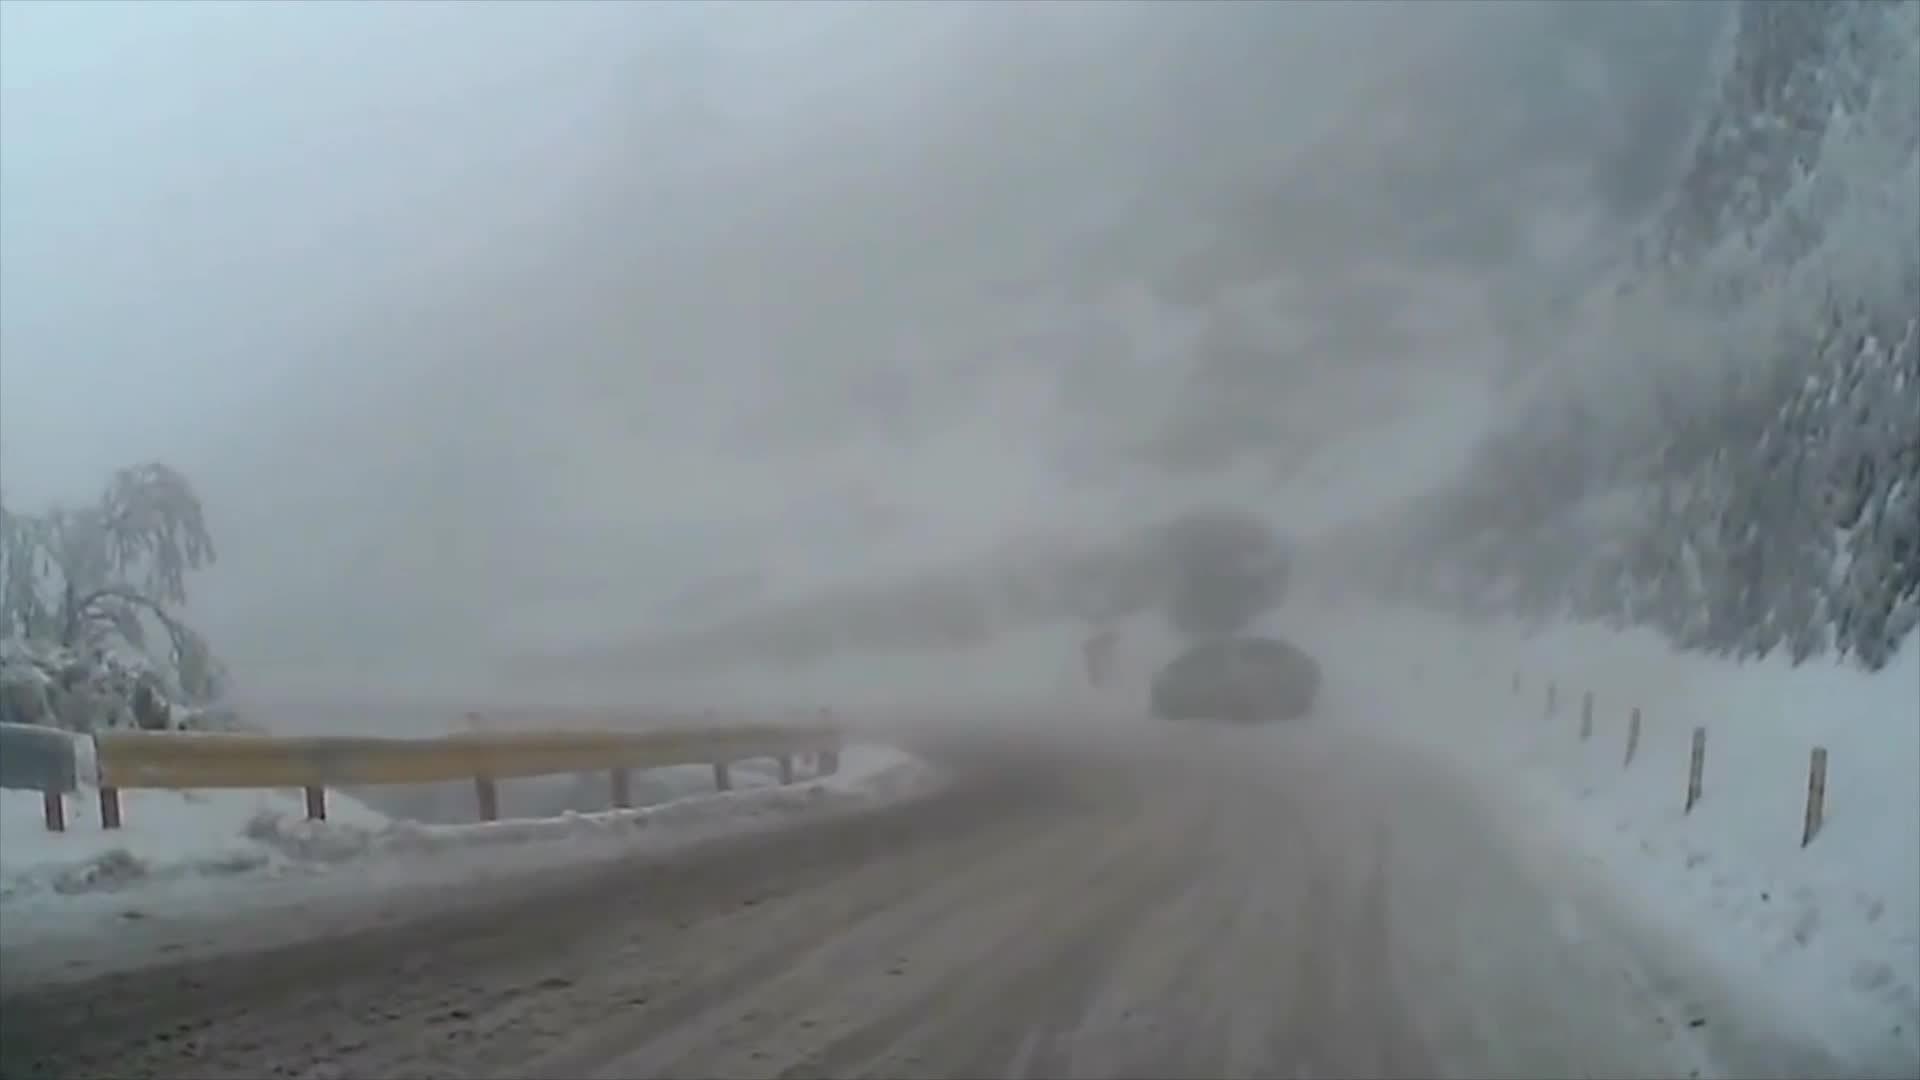vehicle: (1150, 634, 1320, 719)
